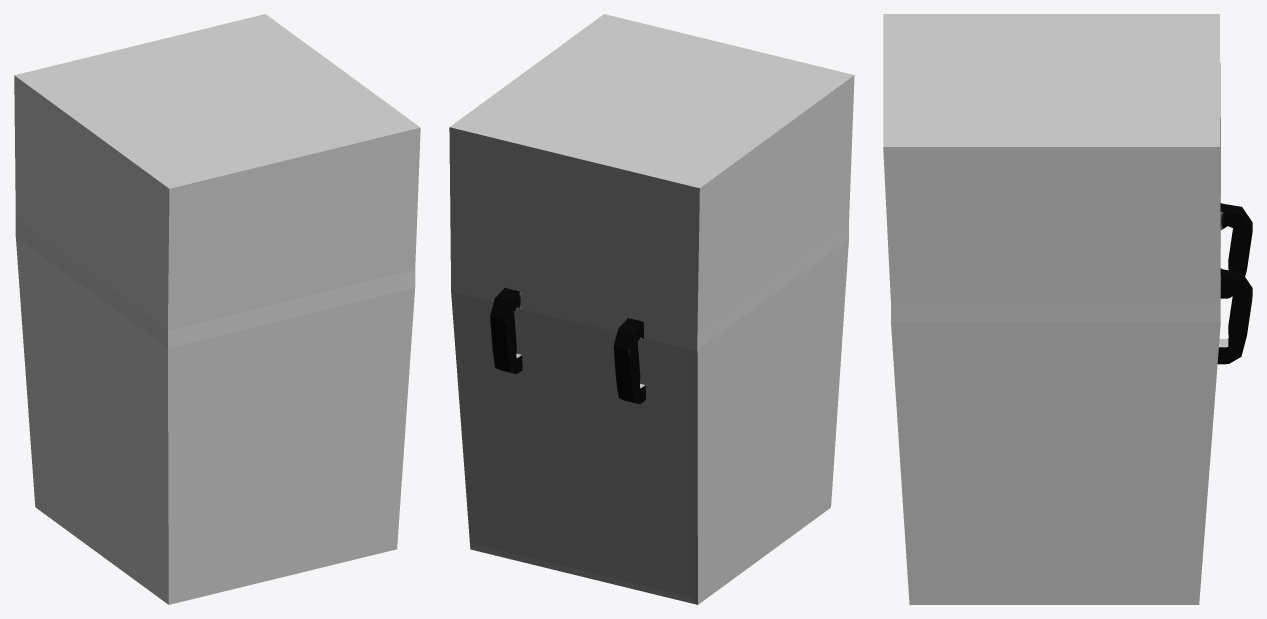
Rendered from Armario.fbx.
3 renders of one model, left to right at view 1: azimuth 30°, elevation 25°; view 2: azimuth 150°, elevation 25°; view 3: azimuth 270°, elevation 25°, orthographic. The views are drawn at different scales.
Visible parts, largest first — view 1: Cube; view 2: Cube; view 3: Cube.
Boxes of the visible parts, bbox=[...] form: Cube: bbox=[14, 14, 420, 604]; Cube: bbox=[449, 14, 854, 604]; Cube: bbox=[883, 14, 1252, 604].
Bounding box in the file's own units: 644 × 1049 × 757.
